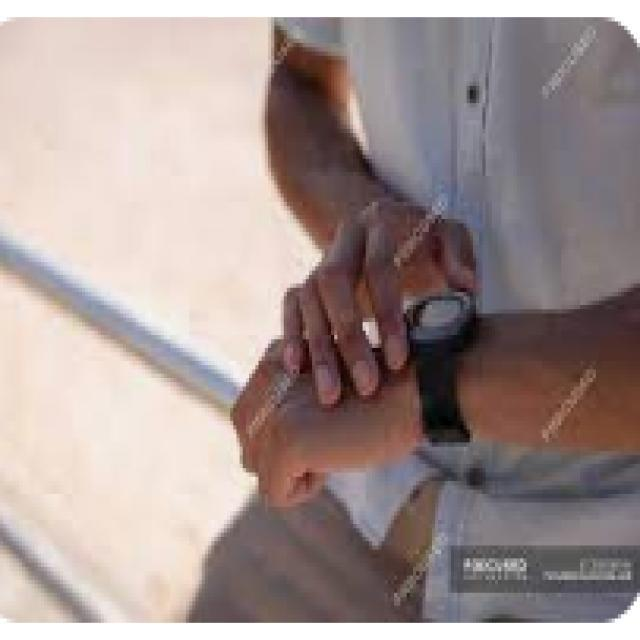Watch: (401, 286, 477, 442)
